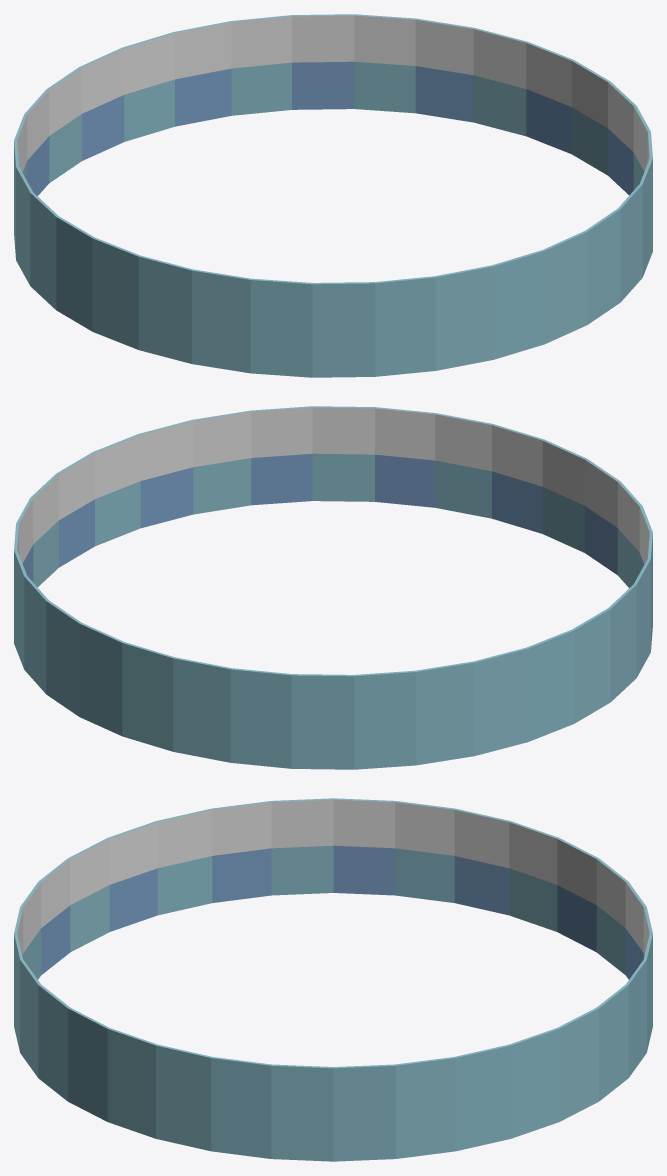
File: Band002.fbx
The picture shows the model from 3 angles, top to bottom: view 1: azimuth 30°, elevation 25°; view 2: azimuth 150°, elevation 25°; view 3: azimuth 270°, elevation 25°; orthographic projection.
Visible parts, largest first — view 1: Circle, CircleInside; view 2: Circle, CircleInside; view 3: Circle, CircleInside.
Part boxes in pixels (left/top/right/bottom): Circle: left=14, top=14, right=652, bottom=377; CircleInside: left=17, top=15, right=649, bottom=196; Circle: left=14, top=406, right=652, bottom=769; CircleInside: left=17, top=407, right=649, bottom=588; Circle: left=14, top=798, right=652, bottom=1161; CircleInside: left=17, top=799, right=649, bottom=979.
Bounding box in the file's own units: 202 × 32.54 × 202.
